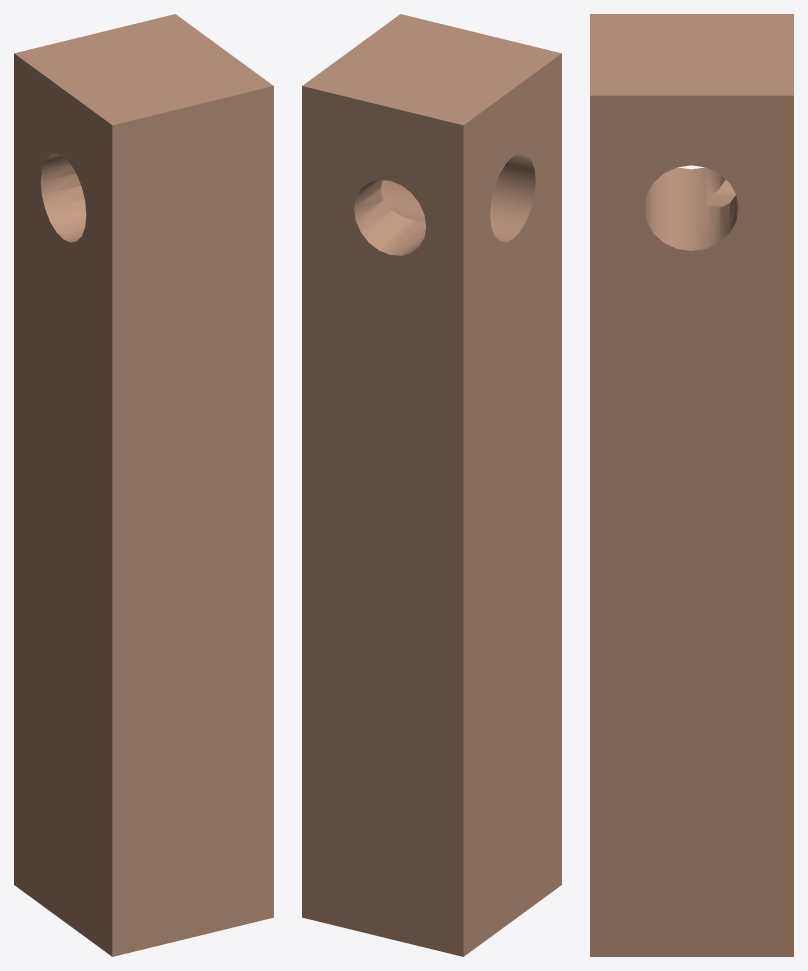
File: bridge_piece_fence_post_01.fbx
3 renders of one model, left to right at view 1: azimuth 30°, elevation 25°; view 2: azimuth 150°, elevation 25°; view 3: azimuth 270°, elevation 25°, orthographic. The views are drawn at different scales.
Visible parts, largest first — view 1: bridge_piece_fence_post_01; view 2: bridge_piece_fence_post_01; view 3: bridge_piece_fence_post_01.
Boxes of the visible parts, x1=… form: bridge_piece_fence_post_01: x1=14, y1=14, x2=273, y2=956; bridge_piece_fence_post_01: x1=302, y1=14, x2=561, y2=956; bridge_piece_fence_post_01: x1=590, y1=14, x2=793, y2=956.
Size of the model in its own units: 21.42 by 105 by 22.61.
